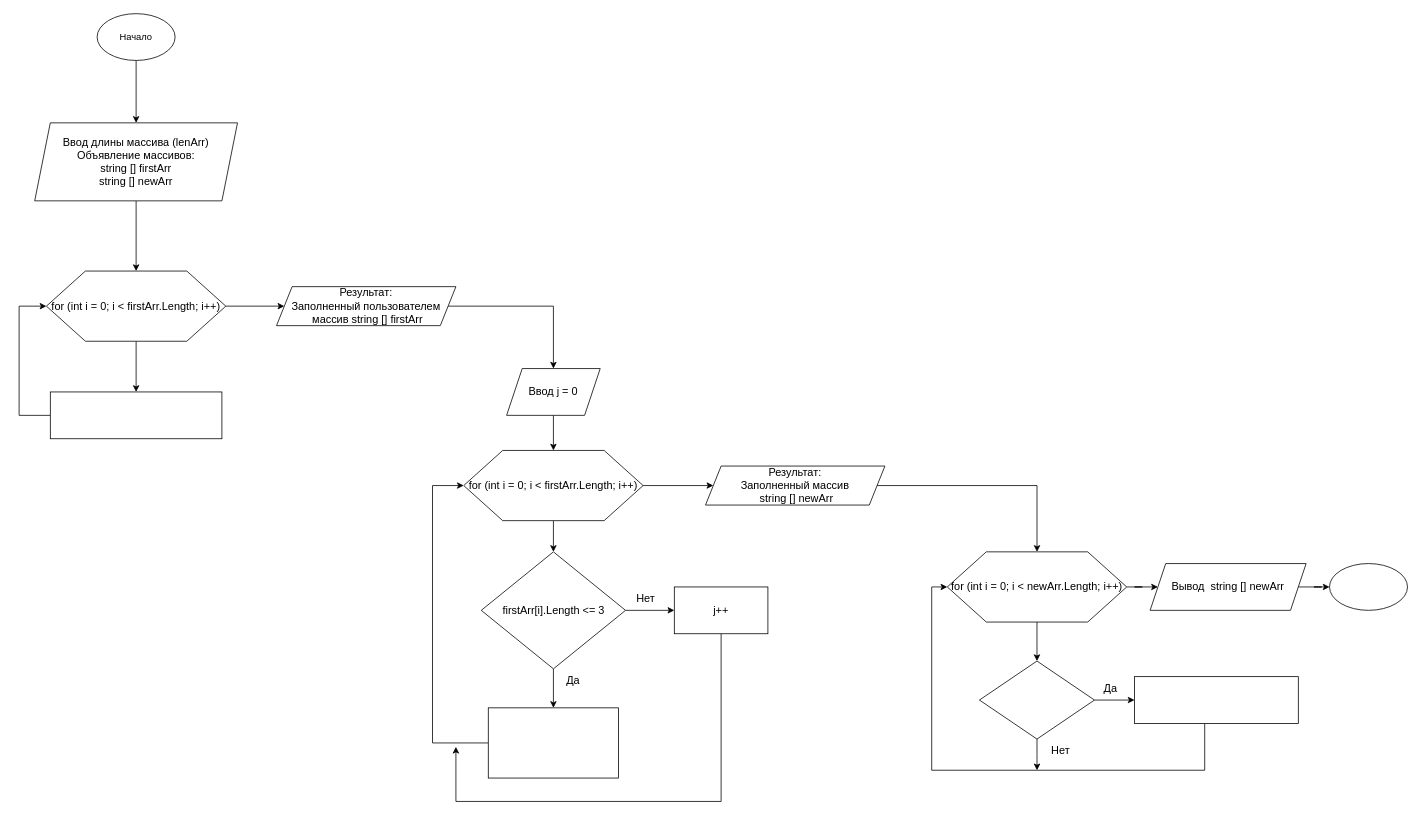
The diagram is 1421 pixels wide and 821 high, and some of its shapes have lost their labels. Each missing label, with the box of its shape:
Console.Write($"{newArr[i]} ");: (1134, 676, 1298, 723)
firstArr[i] = Console.ReadLine();: (50, 391, 222, 439)
newArr[i] != "": (979, 660, 1094, 739)
newArr[j] = firstArr[i] j++: (488, 707, 619, 778)
Конец: (1329, 563, 1408, 610)
